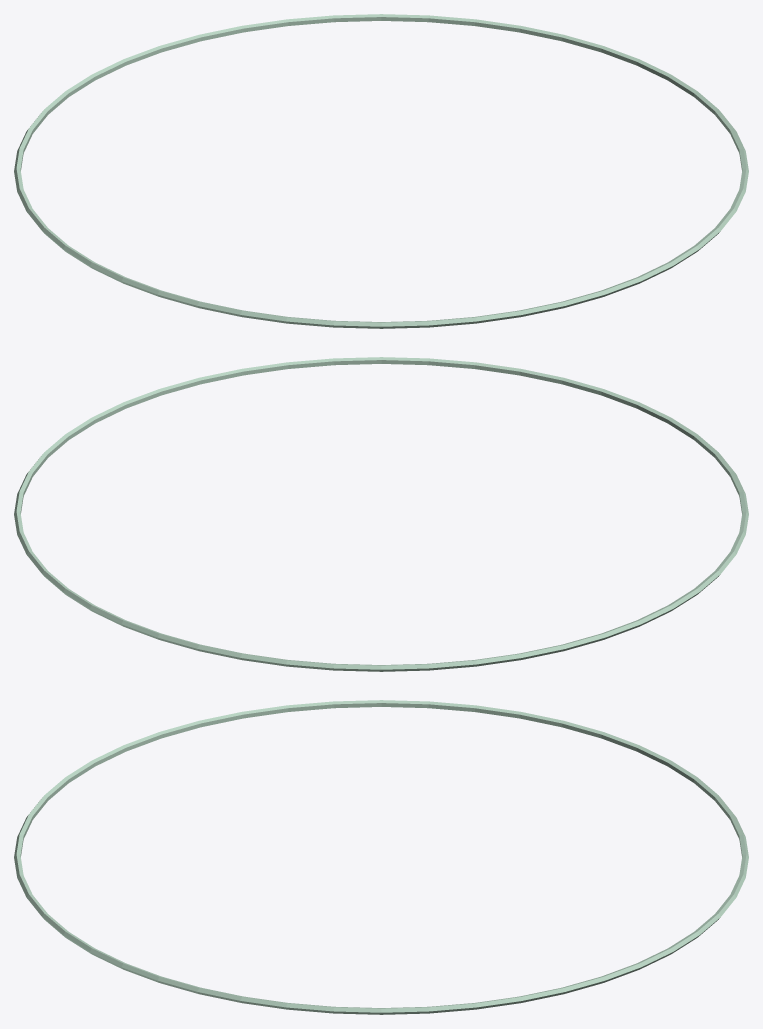
Rendered from GoldFxRipple.glb.
The picture shows the model from 3 angles, top to bottom: view 1: azimuth 30°, elevation 25°; view 2: azimuth 150°, elevation 25°; view 3: azimuth 270°, elevation 25°; orthographic projection.
Visible parts, largest first — view 1: GoldFxRipple.001; view 2: GoldFxRipple.001; view 3: GoldFxRipple.001.
Boxes of the visible parts, <box> form: GoldFxRipple.001: <box>14,14,748,328</box>; GoldFxRipple.001: <box>14,357,748,671</box>; GoldFxRipple.001: <box>14,700,748,1014</box>.
Size of the model in its own units: 0.404 by 0.0038 by 0.404.
